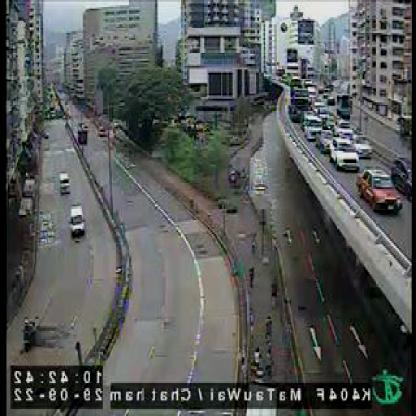Bus: (286, 82, 312, 123)
Car: (356, 164, 402, 212), (393, 144, 416, 203), (333, 137, 361, 172), (69, 199, 88, 241), (317, 128, 339, 156), (354, 135, 374, 158), (335, 116, 355, 139), (60, 168, 73, 196), (324, 107, 336, 128)
Truck: (302, 109, 325, 137)
